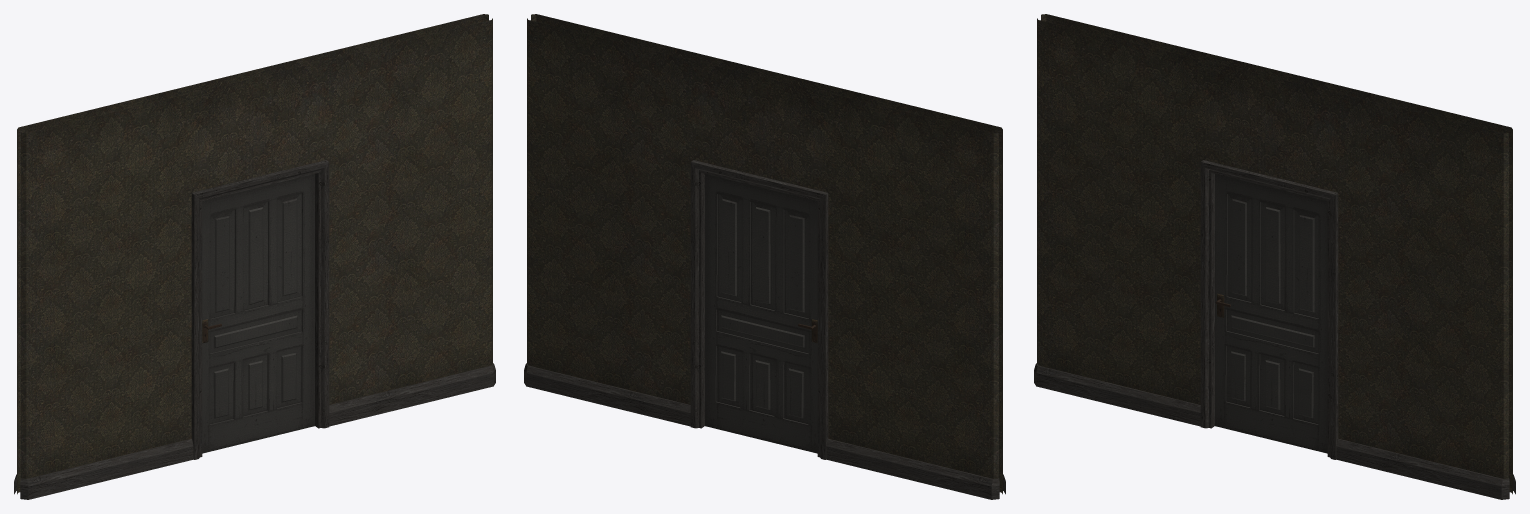
File: doorway_2_1.obj
3 renders of one model, left to right at view 1: azimuth 30°, elevation 25°; view 2: azimuth 150°, elevation 25°; view 3: azimuth 330°, elevation 25°, orthographic.
Visible parts, largest first — view 1: doorway_2_1, door_1; view 2: doorway_2_1, door_1; view 3: doorway_2_1, door_1.
Boxes of the visible parts, <box> form: doorway_2_1: <box>14,14,495,499</box>; door_1: <box>202,174,314,453</box>; doorway_2_1: <box>524,14,1005,499</box>; door_1: <box>705,174,817,453</box>; doorway_2_1: <box>1034,14,1515,499</box>; door_1: <box>1215,174,1327,453</box>.
Size of the model in its own units: 4.09 by 3 by 0.2.
